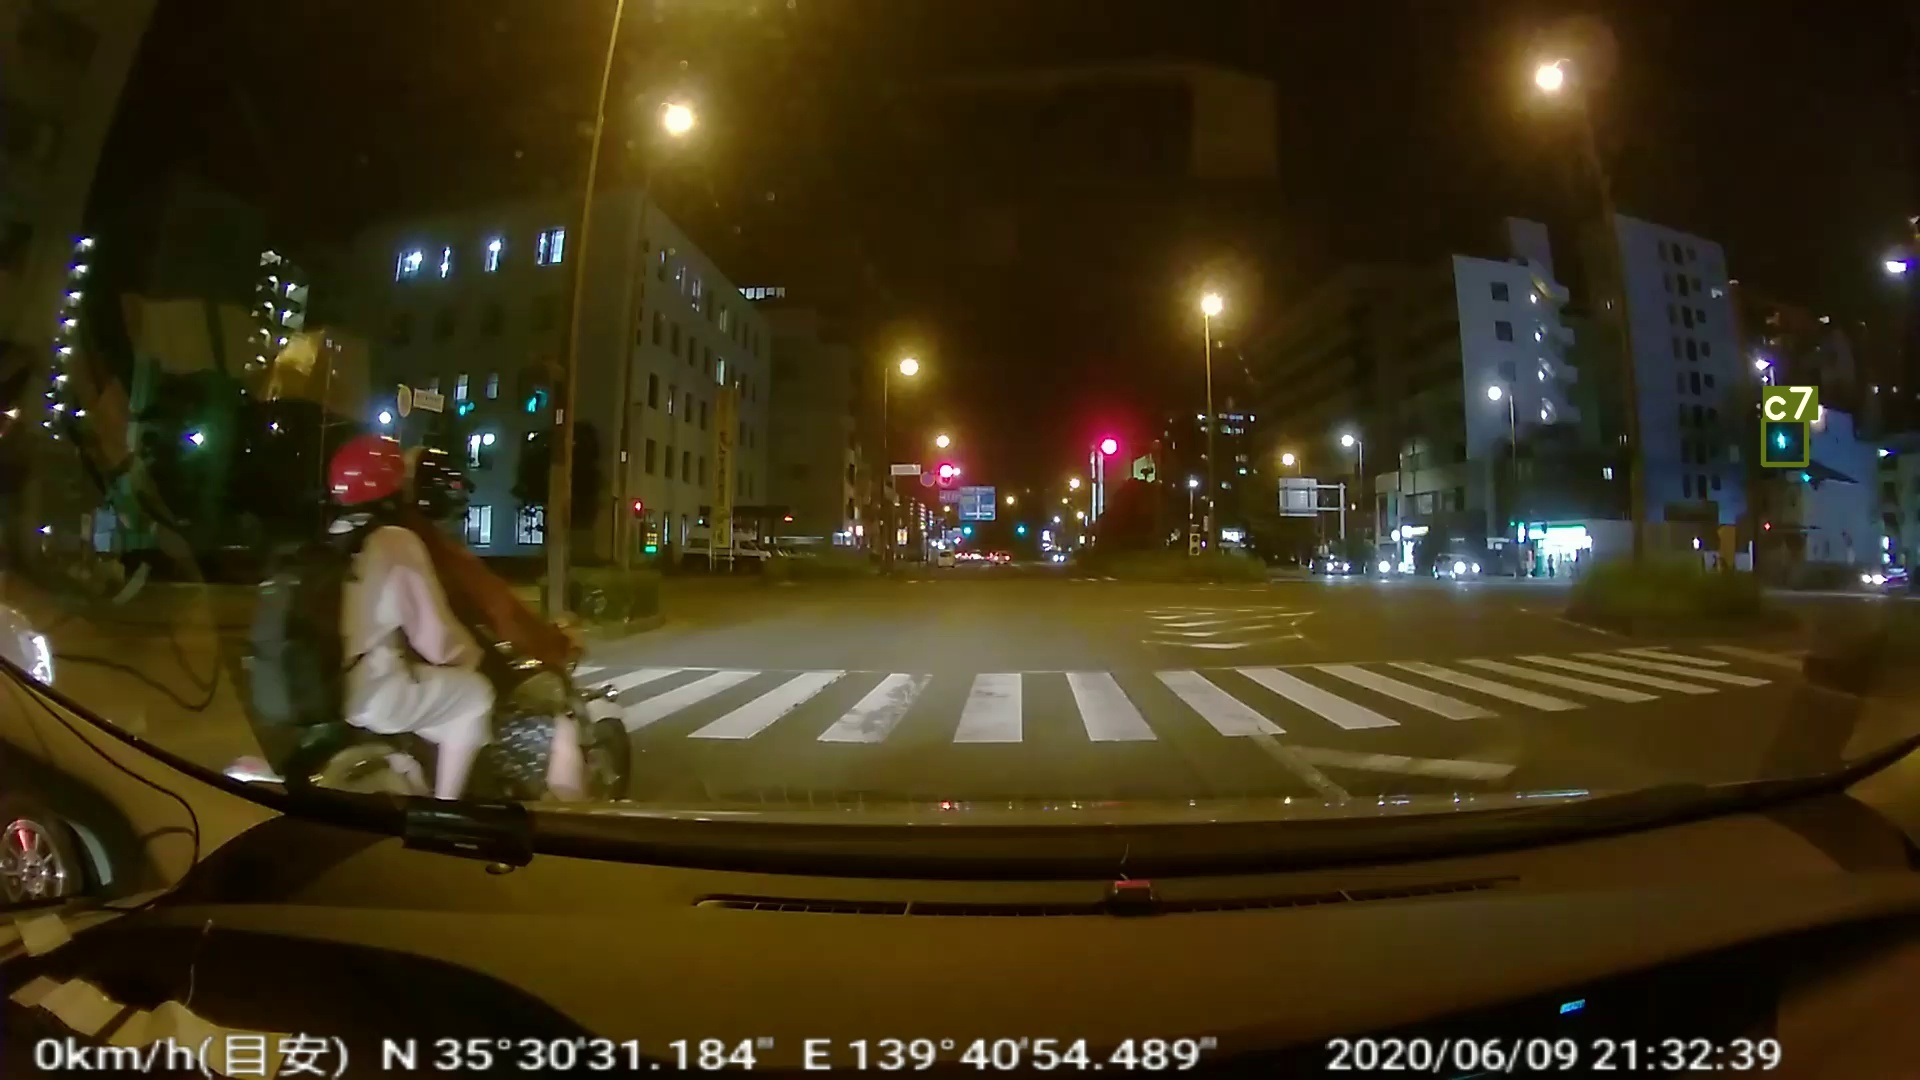c7: (1763, 419, 1807, 464)
